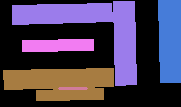parkingspot: (3, 68, 113, 89), (12, 3, 112, 24), (113, 1, 136, 85), (158, 0, 181, 82), (22, 39, 93, 51), (36, 88, 103, 100)
